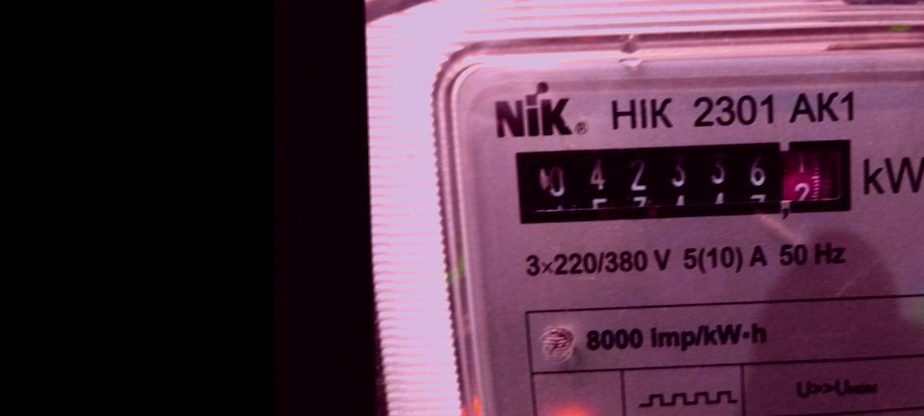0: (546, 161, 567, 196)
1: (794, 145, 807, 174)
2: (627, 154, 648, 191), (791, 179, 811, 200)
3: (668, 149, 688, 188), (706, 148, 727, 185)
4: (587, 152, 607, 190)
6: (745, 150, 768, 185)
screen: (507, 127, 862, 230)
